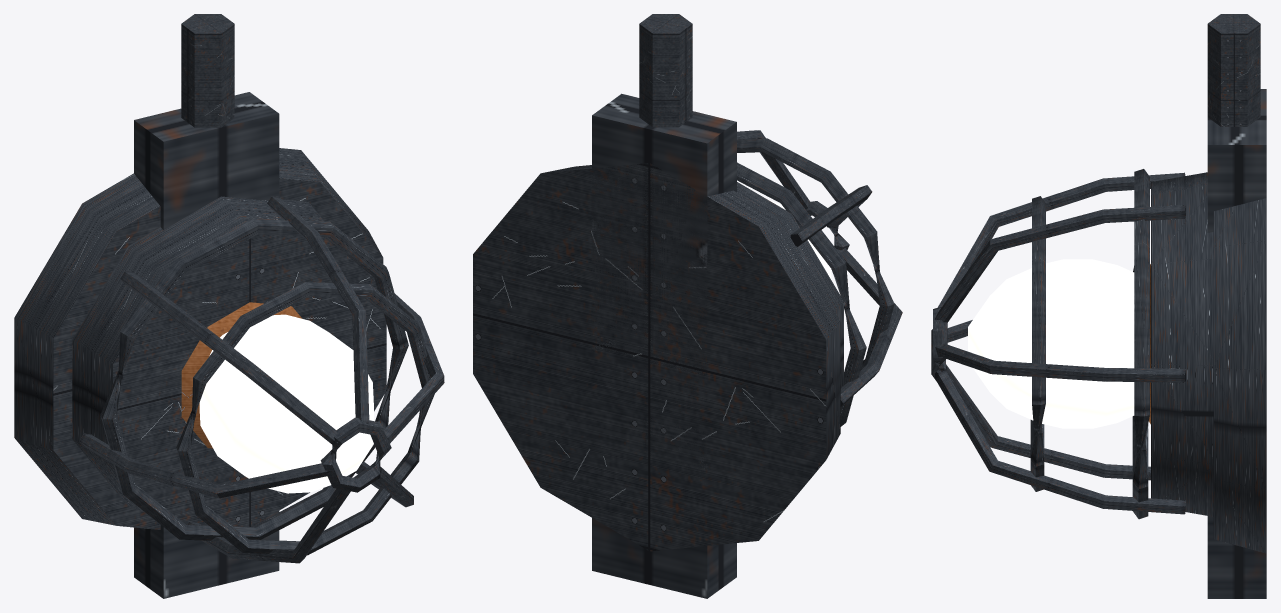
The model's file is cage_bulkhead_lamp_9481.glb.
3 views of the same model, side by side, from view 1: azimuth 30°, elevation 25°; view 2: azimuth 150°, elevation 25°; view 3: azimuth 270°, elevation 25° (orthographic).
Visible parts, largest first — view 1: bombillo_reja; view 2: bombillo_reja; view 3: bombillo_reja.
Part boxes in pixels (bbox=[...]): bombillo_reja: bbox=[14, 14, 444, 598]; bombillo_reja: bbox=[473, 14, 902, 598]; bombillo_reja: bbox=[931, 14, 1266, 598].
Size of the model in its own units: 0.2758 by 0.41 by 0.2275.
3 materials, 2 textured.
